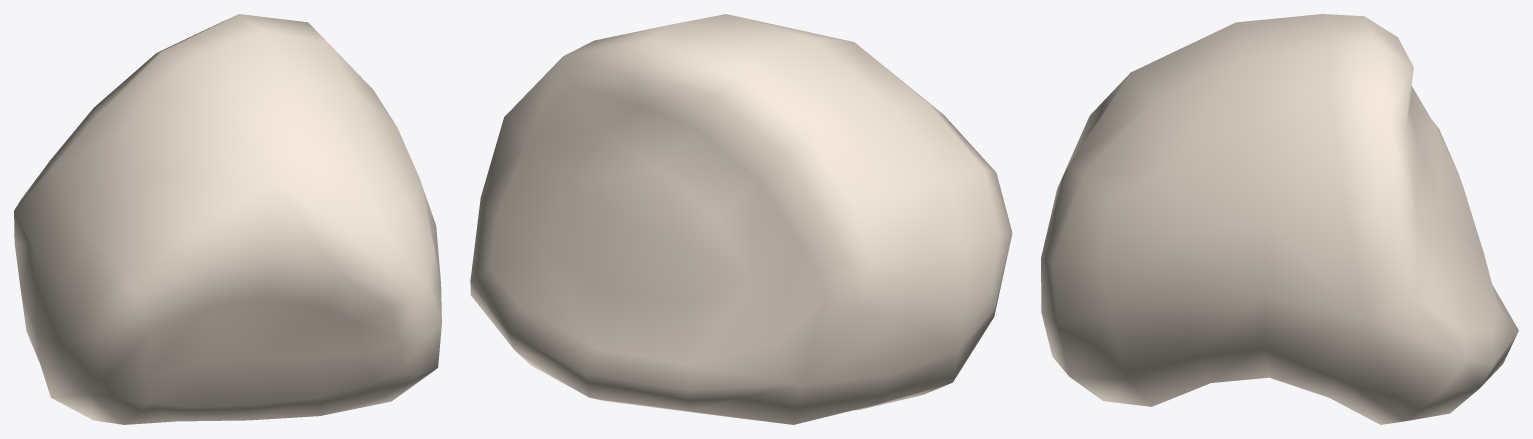
Rendered from right_toe_5_middle.glb.
3 renders of one model, left to right at view 1: azimuth 30°, elevation 25°; view 2: azimuth 150°, elevation 25°; view 3: azimuth 270°, elevation 25°, orthographic. The views are drawn at different scales.
Visible parts, largest first — view 1: Middle phalanx of fifth finger of foot.r; view 2: Middle phalanx of fifth finger of foot.r; view 3: Middle phalanx of fifth finger of foot.r.
Boxes of the visible parts, x1,y1,x2,y2 form: Middle phalanx of fifth finger of foot.r: (14,14,441,424); Middle phalanx of fifth finger of foot.r: (470,14,1012,424); Middle phalanx of fifth finger of foot.r: (1041,14,1518,424).
Size of the model in its own units: 0.00844 by 0.00646 by 0.00783.
